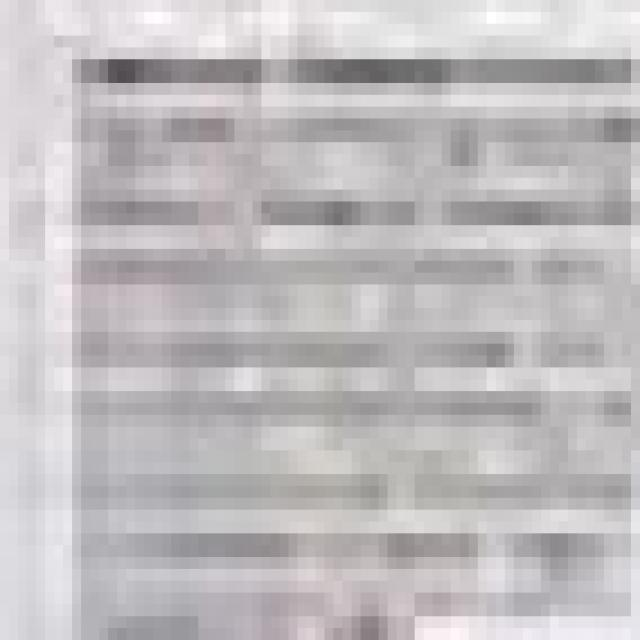paper: (9, 12, 640, 640)
